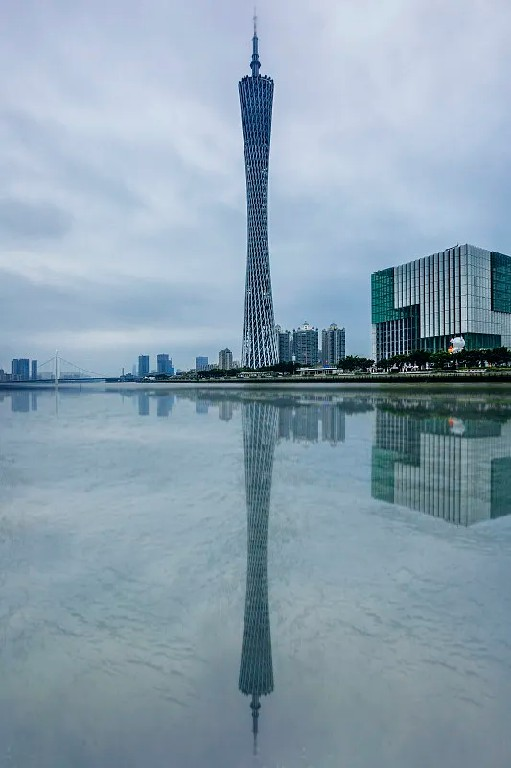Canton: (236, 5, 280, 368)
